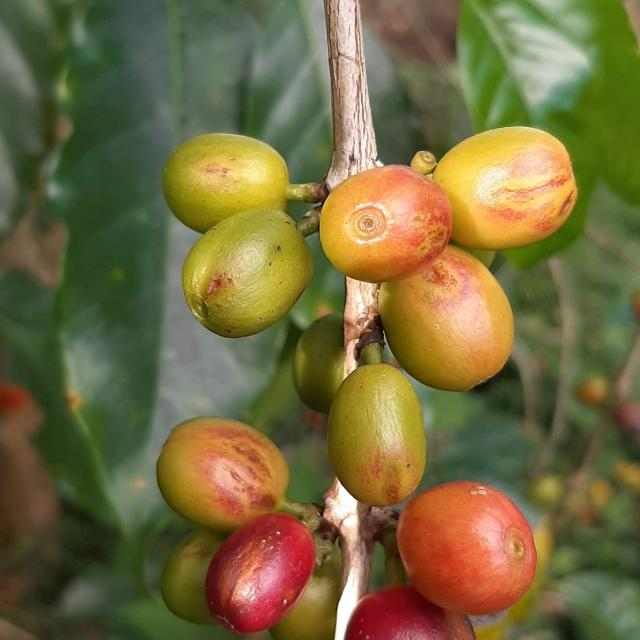green: (182, 208, 313, 338), (162, 133, 289, 233), (270, 549, 342, 640), (160, 529, 225, 626), (294, 313, 345, 414)
red: (397, 482, 538, 616), (205, 514, 316, 635), (346, 586, 476, 640)
yellow: (379, 245, 515, 392), (434, 126, 579, 250), (320, 165, 452, 283), (156, 418, 289, 533), (328, 364, 427, 507)
